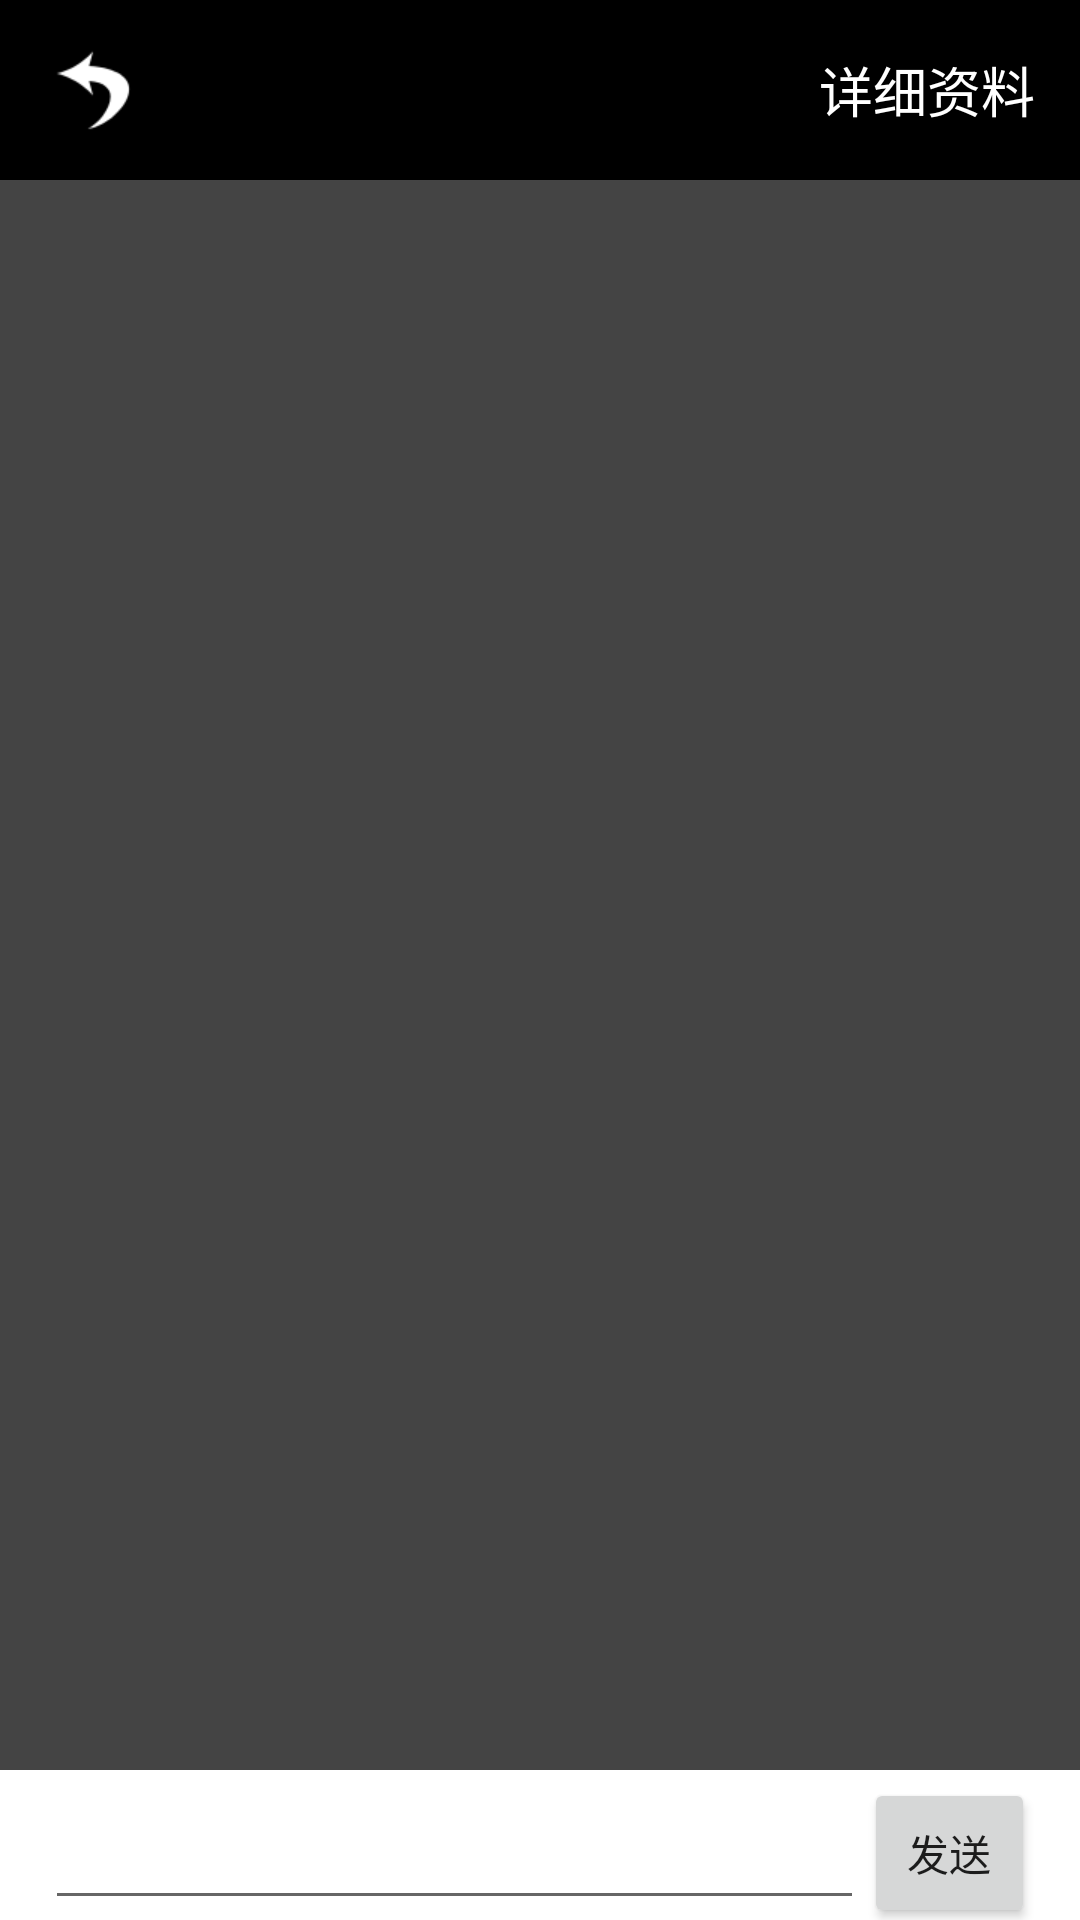

Screen size 1080px x 1920px. Icon name, then its box in pixels as (x1, y1, x2, y2):
back: (57, 52, 130, 129)
